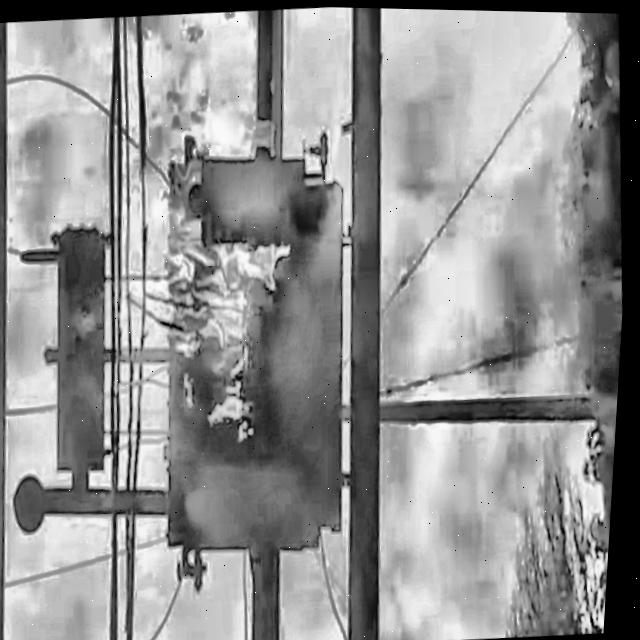Fire: (31, 1, 334, 465)
